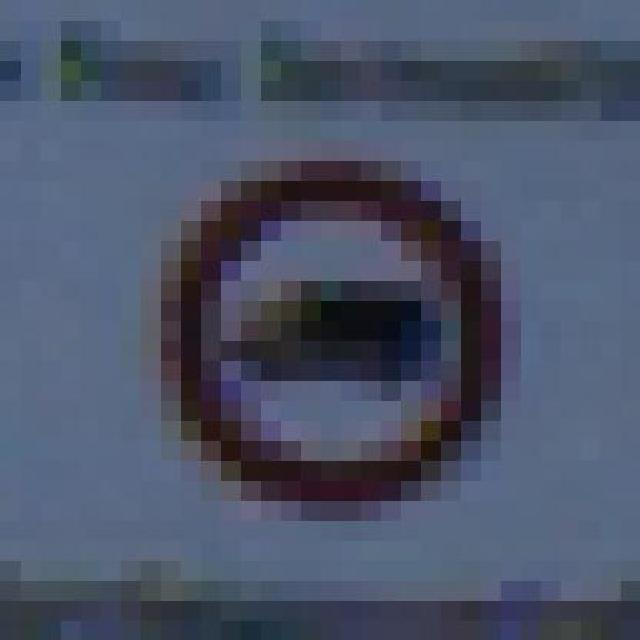Truck traffic is prohibited: (98, 151, 538, 511)
